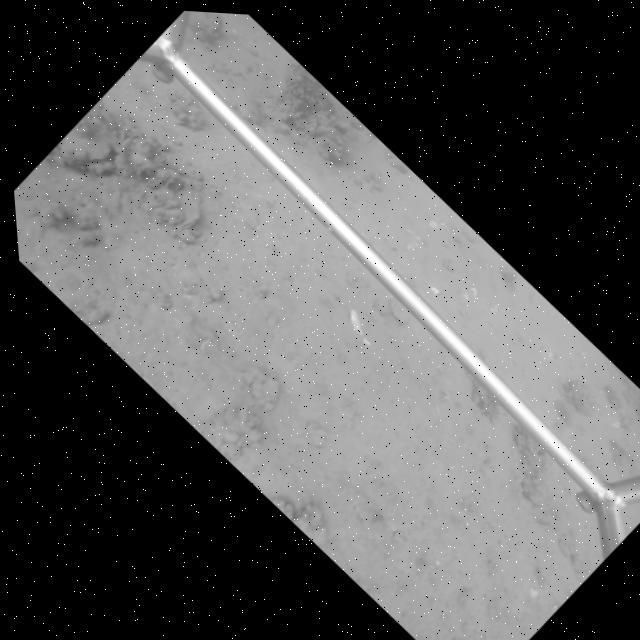Oyster-Closed: (136, 180, 203, 231)
Oyster-Indeterminate: (116, 134, 158, 177)
